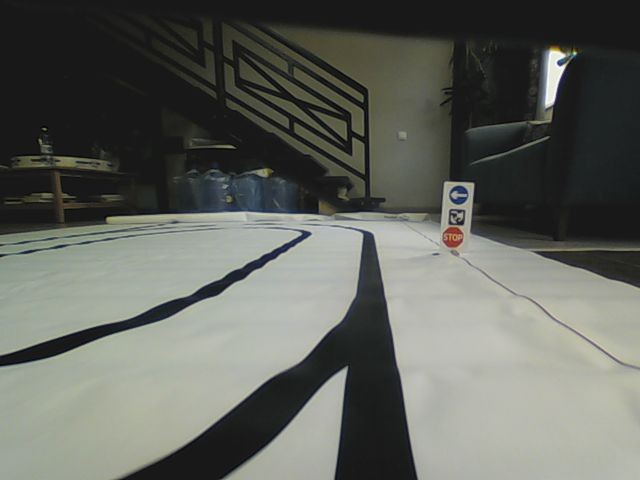Stop: (441, 226, 466, 247)
